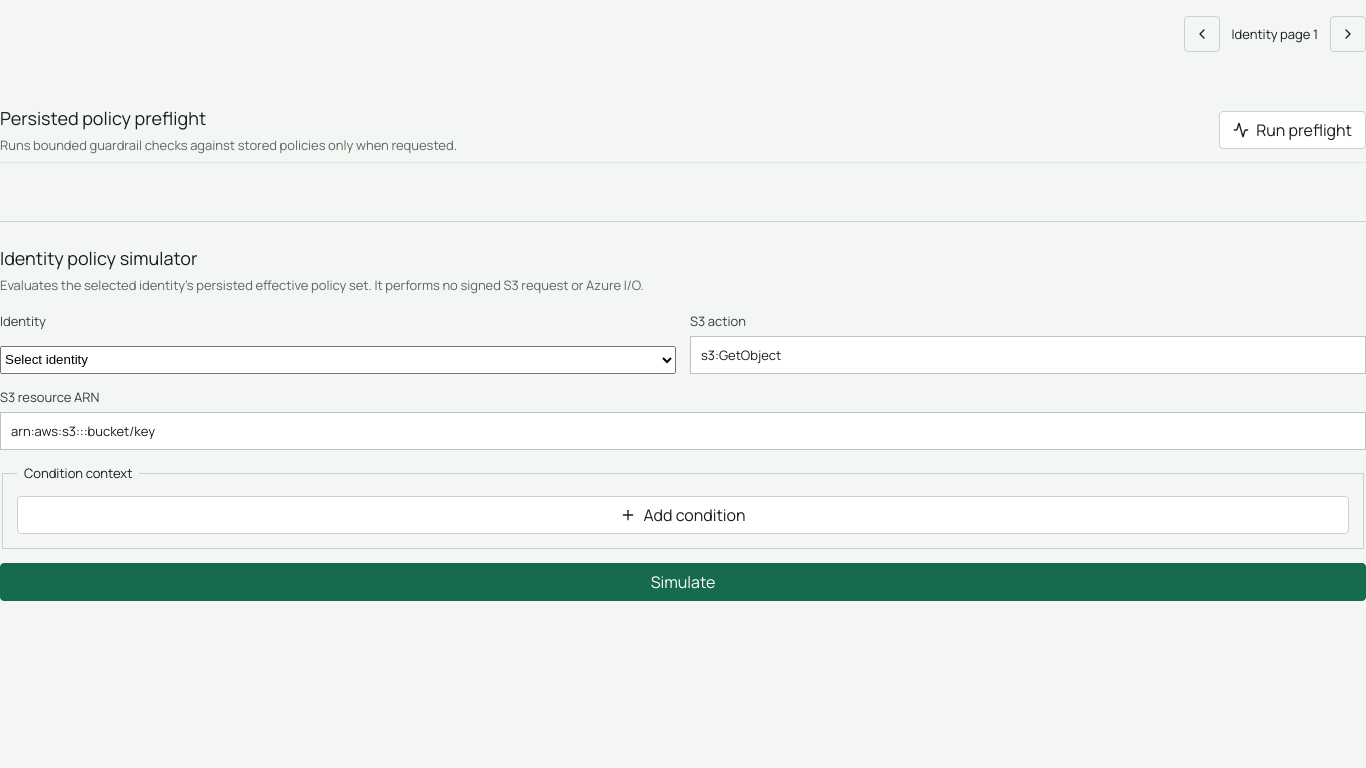
Test case: PolicyDiagnostics › offers Retry when the first simulation attempt fails
Select "SIMULATOR_KEY" in the dropdown labelled "Identity" at [338, 360], box [0,346,676,374]
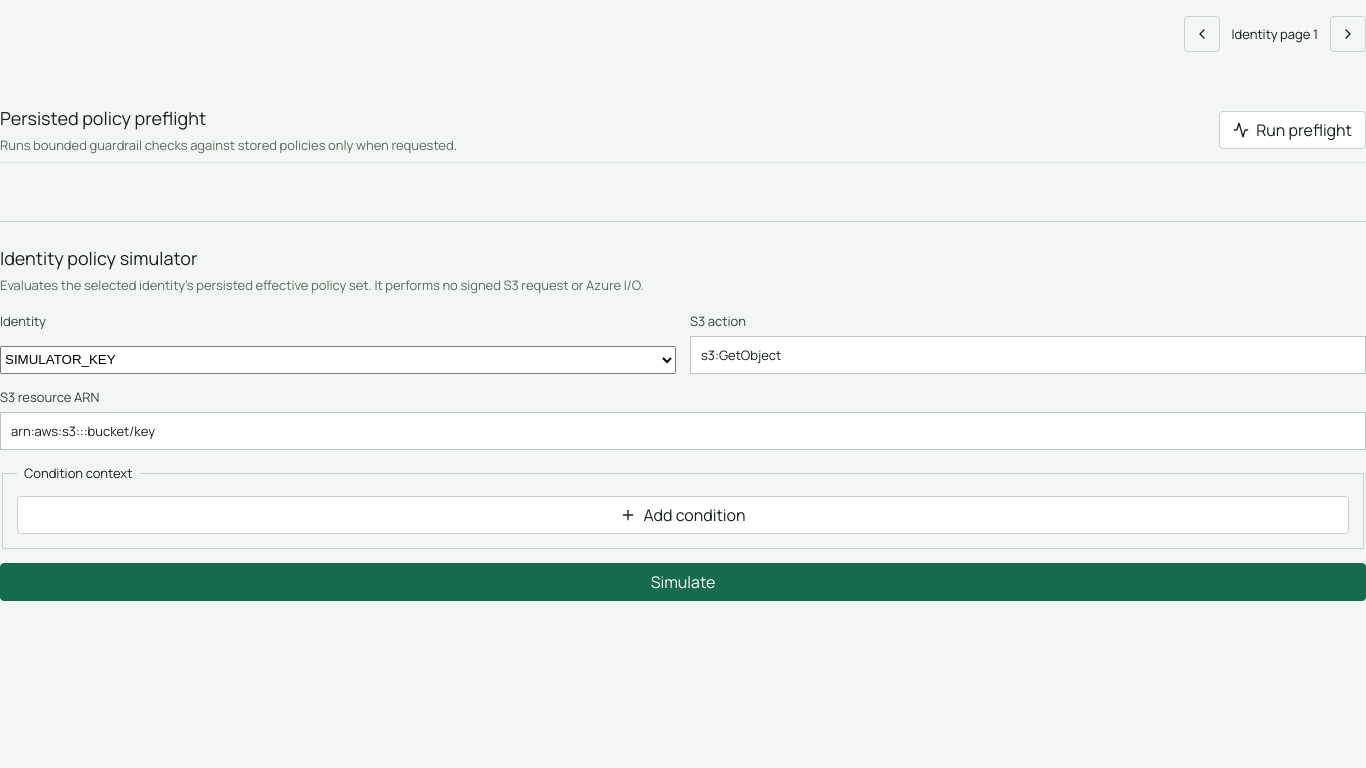
Submit the form "Simulate", box [0,312,1365,601]
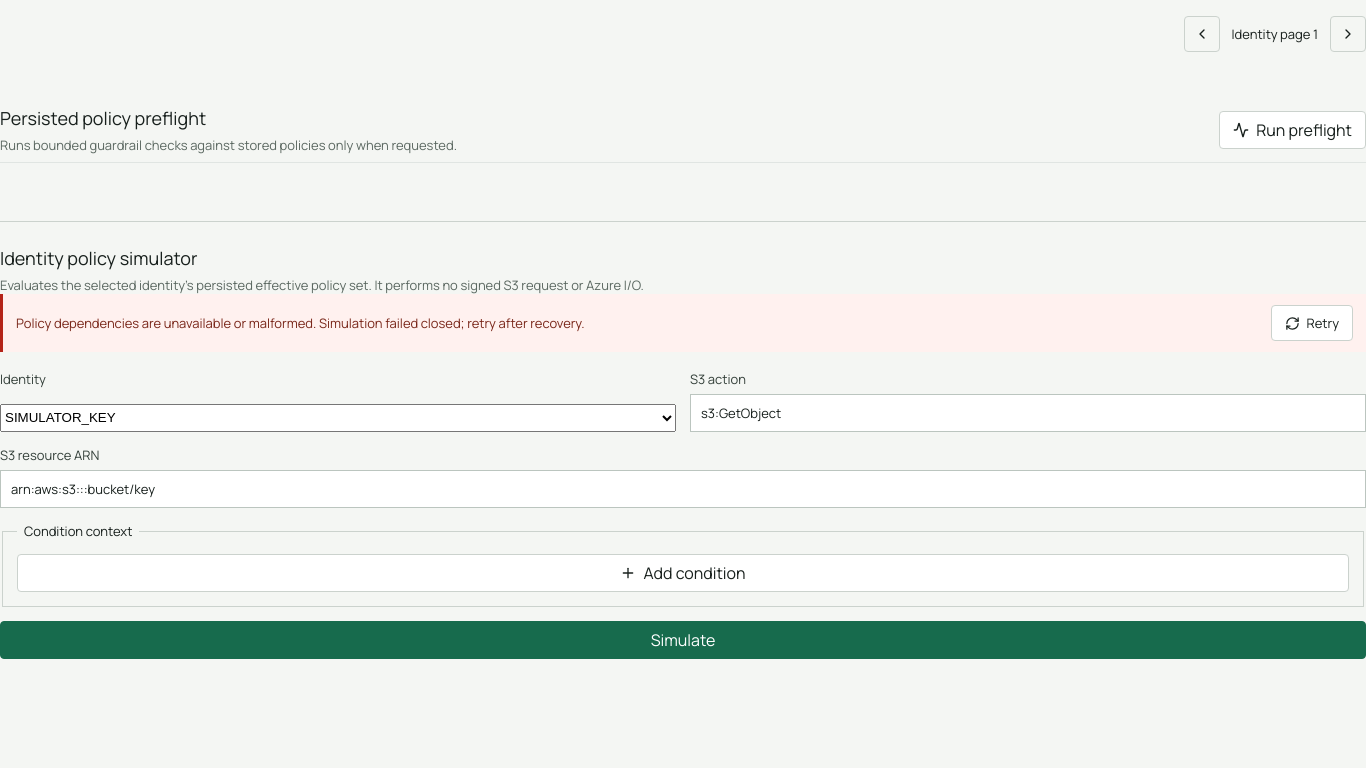
Click the button "Retry" at [1312, 323], box [1270,305,1353,341]
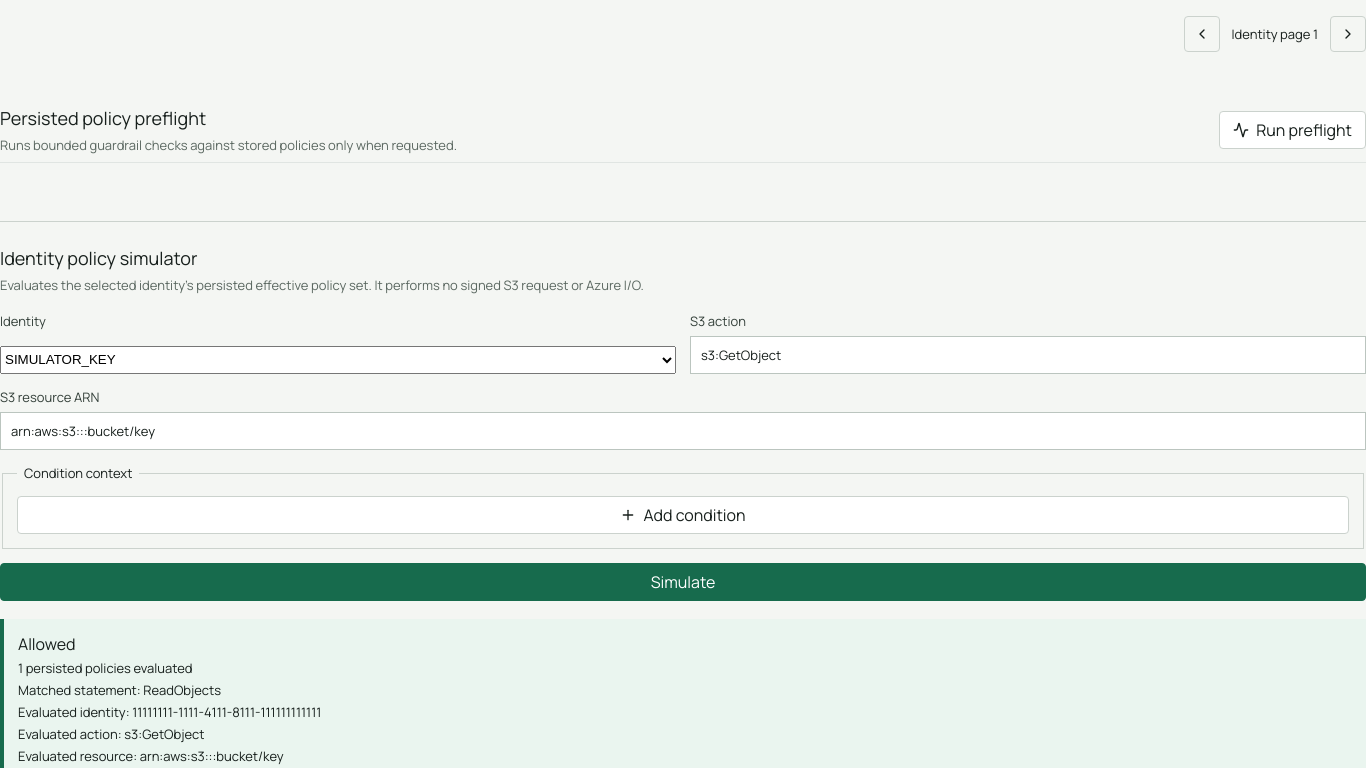
Result: the text "Allowed" is shown at [18,633,76,655]
